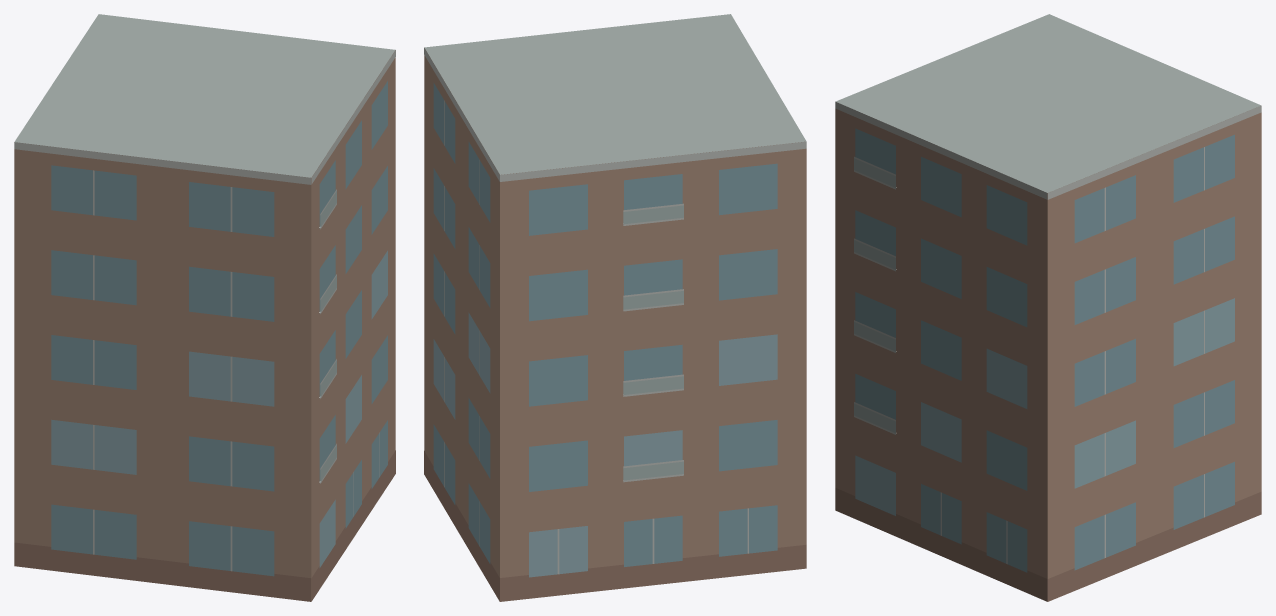
File: survey-upis-32686907.glb
The picture shows the model from 3 angles, left to right: view 1: azimuth 30°, elevation 25°; view 2: azimuth 150°, elevation 25°; view 3: azimuth 270°, elevation 25°; orthographic projection. The views are drawn at different scales.
Visible parts, largest first — view 1: survey-upis-32686907.tmp; view 2: survey-upis-32686907.tmp; view 3: survey-upis-32686907.tmp.
Part boxes in pixels (box(x1,y1,x2,y2)): survey-upis-32686907.tmp: box(14, 14, 395, 601); survey-upis-32686907.tmp: box(424, 14, 806, 601); survey-upis-32686907.tmp: box(835, 14, 1261, 601).
Size of the model in its own units: 13.62 by 14.5 by 13.71.
